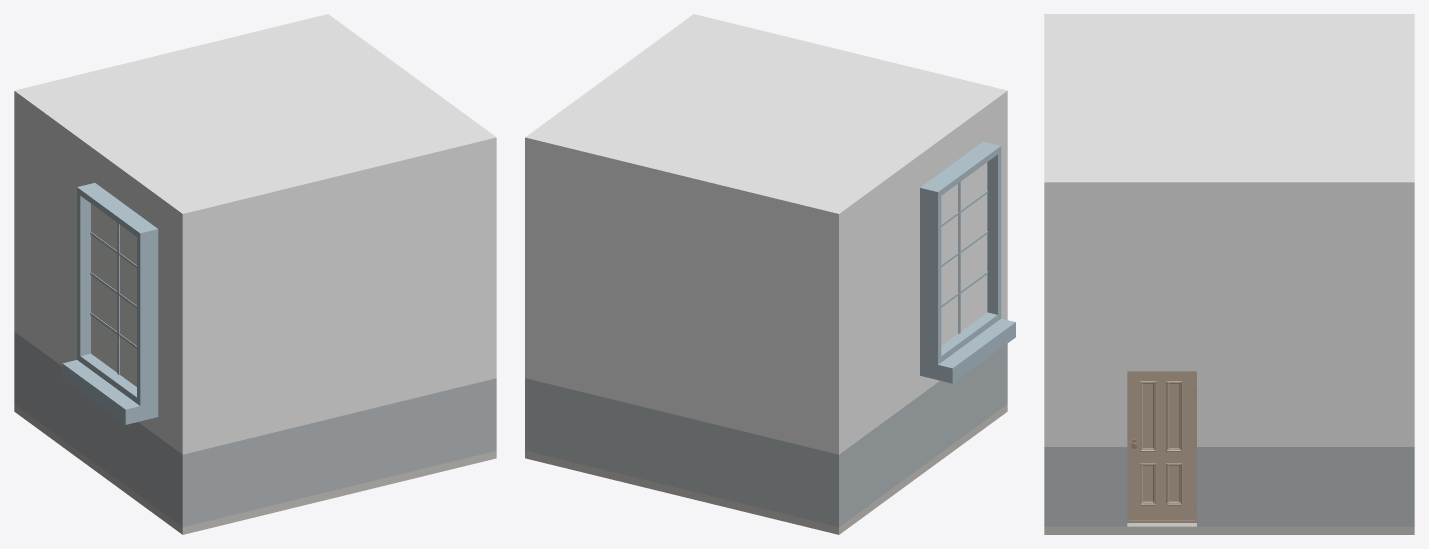
File: 877_room.glb
The picture shows the model from 3 angles, left to right: view 1: azimuth 30°, elevation 25°; view 2: azimuth 150°, elevation 25°; view 3: azimuth 270°, elevation 25°; orthographic projection. The views are drawn at different scales.
Parts seen in each view (by area): view 1: kabe3, 天井, kabe4, 床, kabe2; view 2: kabe1, 天井, kabe4, 床; view 3: kabe2, 天井, 戸, 床, kabe1, kabe3.
Part boxes in pixels (x1=…): kabe3: x1=182, y1=145, x2=496, y2=527; 天井: x1=14, y1=14, x2=496, y2=221; kabe4: x1=14, y1=98, x2=193, y2=526; 床: x1=14, y1=404, x2=496, y2=534; kabe2: x1=486, y1=150, x2=496, y2=453; kabe1: x1=525, y1=145, x2=838, y2=527; 天井: x1=525, y1=14, x2=1007, y2=221; kabe4: x1=831, y1=98, x2=1015, y2=526; 床: x1=525, y1=404, x2=1007, y2=534; kabe2: x1=1044, y1=190, x2=1406, y2=526; 天井: x1=1044, y1=14, x2=1414, y2=190; 戸: x1=1129, y1=371, x2=1194, y2=520; 床: x1=1044, y1=523, x2=1414, y2=534; kabe1: x1=1401, y1=190, x2=1414, y2=526; kabe3: x1=1044, y1=190, x2=1057, y2=526.
Size of the model in its own units: 4.75 by 4.2 by 4.
